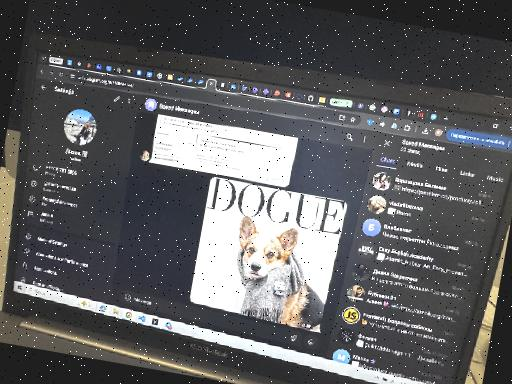telegram: (0, 70, 512, 384)
